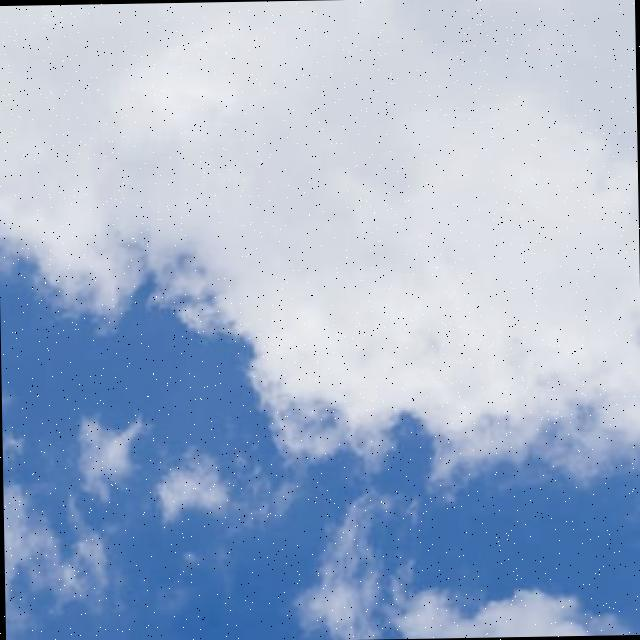As: (1, 1, 640, 496)
